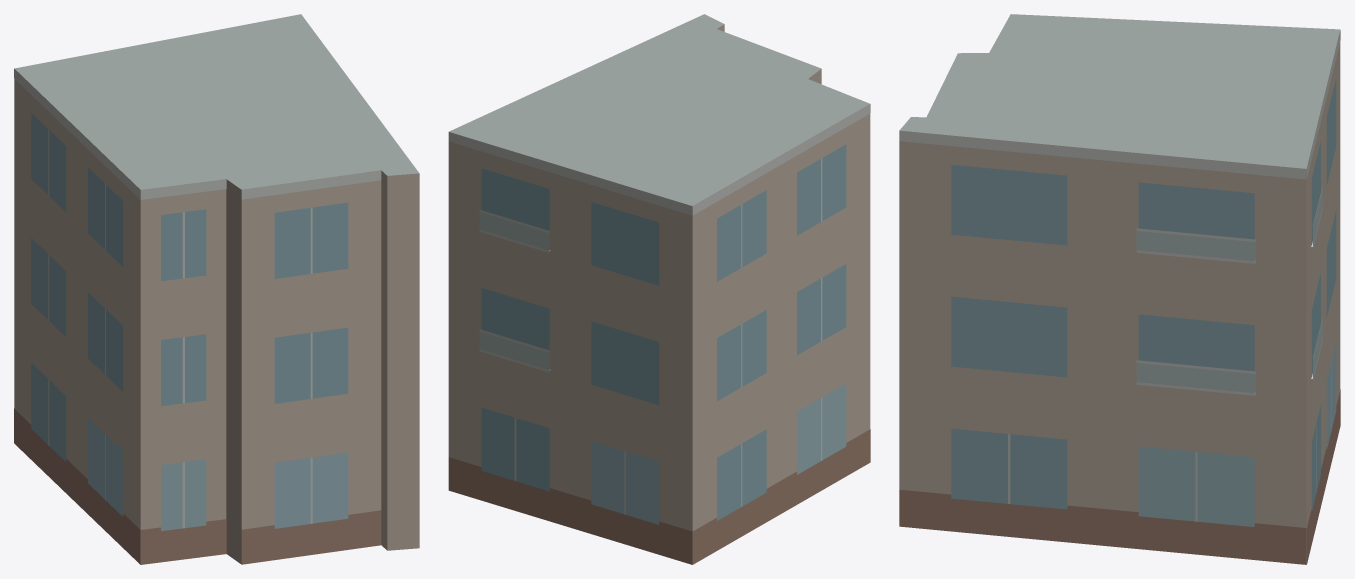
File: survey-upis-32467502.glb
3 renders of one model, left to right at view 1: azimuth 30°, elevation 25°; view 2: azimuth 150°, elevation 25°; view 3: azimuth 270°, elevation 25°, orthographic. The views are drawn at different scales.
Parts seen in each view (by area): view 1: survey-upis-32467502.tmp; view 2: survey-upis-32467502.tmp; view 3: survey-upis-32467502.tmp.
Boxes of the visible parts, <box> form: survey-upis-32467502.tmp: <box>14,14,419,564</box>; survey-upis-32467502.tmp: <box>448,14,870,564</box>; survey-upis-32467502.tmp: <box>899,14,1340,564</box>.
Bounding box in the file's own units: 7.69 × 9.15 × 9.25.
